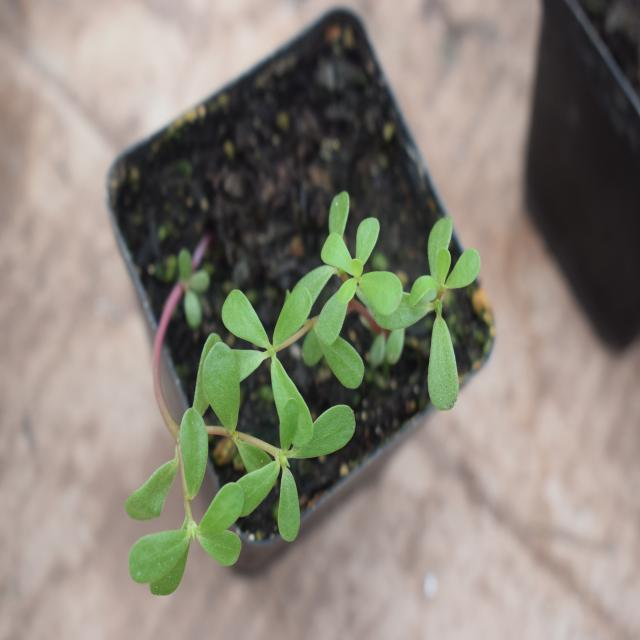purslane: (100, 203, 476, 583)
